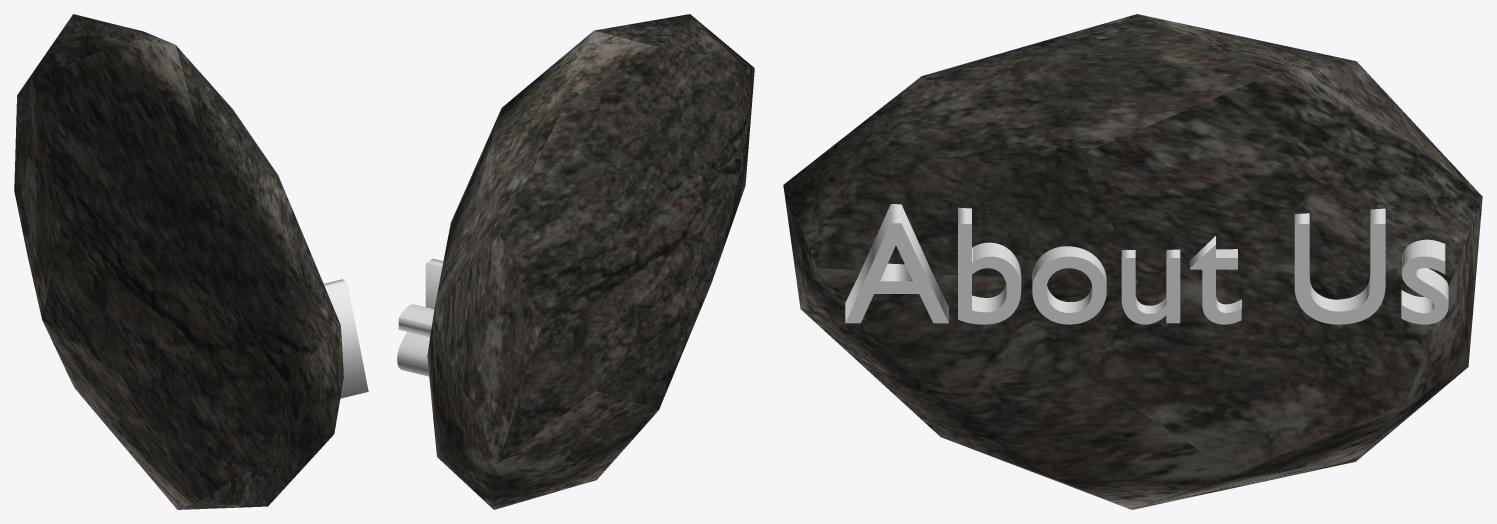
File: aboutbottons.fbx
3 renders of one model, left to right at view 1: azimuth 30°, elevation 25°; view 2: azimuth 150°, elevation 25°; view 3: azimuth 270°, elevation 25°, orthographic. The views are drawn at different scales.
Parts seen in each view (by area): view 1: Icosphere.002, Text.001; view 2: Icosphere.002, Text.001; view 3: Icosphere.002, Text.001.
Boxes of the visible parts, left/top/right/bottom form: Icosphere.002: left=14, top=14, right=343, bottom=509; Text.001: left=313, top=258, right=368, bottom=398; Icosphere.002: left=427, top=14, right=754, bottom=509; Text.001: left=397, top=258, right=443, bottom=376; Icosphere.002: left=783, top=14, right=1482, bottom=509; Text.001: left=845, top=204, right=1448, bottom=324.
Size of the model in its own units: 41.36 by 201 by 257.
